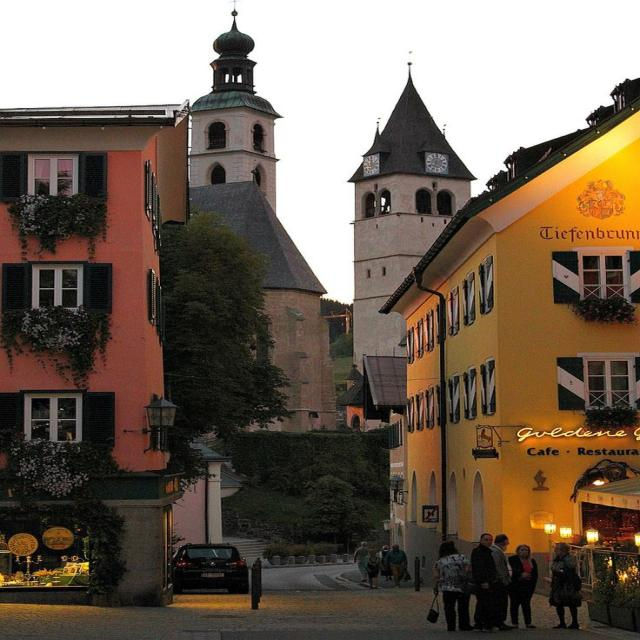body: (424, 539, 480, 632), (468, 531, 502, 633), (546, 540, 584, 630), (503, 542, 540, 630), (488, 533, 516, 631), (383, 543, 412, 589), (352, 540, 374, 584), (364, 548, 384, 590), (600, 540, 617, 585), (378, 544, 394, 582), (22, 570, 39, 582)
